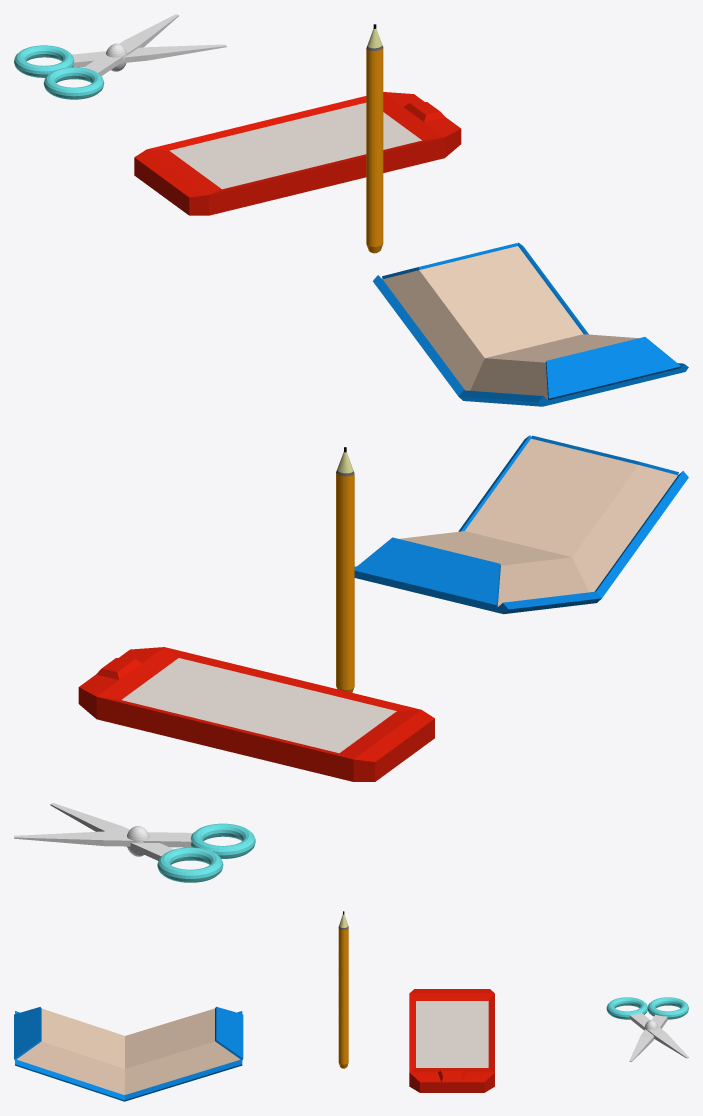
File: utility.fbx
3 renders of one model, top to bottom at view 1: azimuth 30°, elevation 25°; view 2: azimuth 150°, elevation 25°; view 3: azimuth 270°, elevation 25°, orthographic. The views are drawn at different scales.
Parts seen in each view (by area): view 1: Cube, Cube.001, Torus, Cylinder; view 2: Cube, Cube.001, Torus, Cylinder; view 3: Cube, Cube.001, Torus, Cylinder.
Boxes of the visible parts, box(x1,y1,x2,y2) form: Cube: box(373, 242, 688, 406); Cube.001: box(134, 92, 461, 215); Torus: box(14, 14, 226, 99); Cylinder: box(366, 24, 383, 253); Cube: box(354, 435, 688, 614); Cube.001: box(78, 647, 434, 781); Torus: box(14, 803, 255, 882); Cylinder: box(336, 447, 354, 692); Cube: box(14, 1006, 243, 1101); Cube.001: box(409, 989, 494, 1092); Torus: box(606, 997, 688, 1061); Cylinder: box(338, 911, 348, 1068).
Bounding box in the file's own units: 769 × 644 × 2372.
